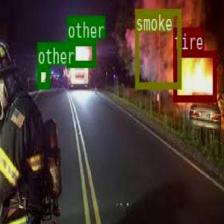fire: (172, 50, 216, 100)
smoke: (134, 7, 180, 87)
